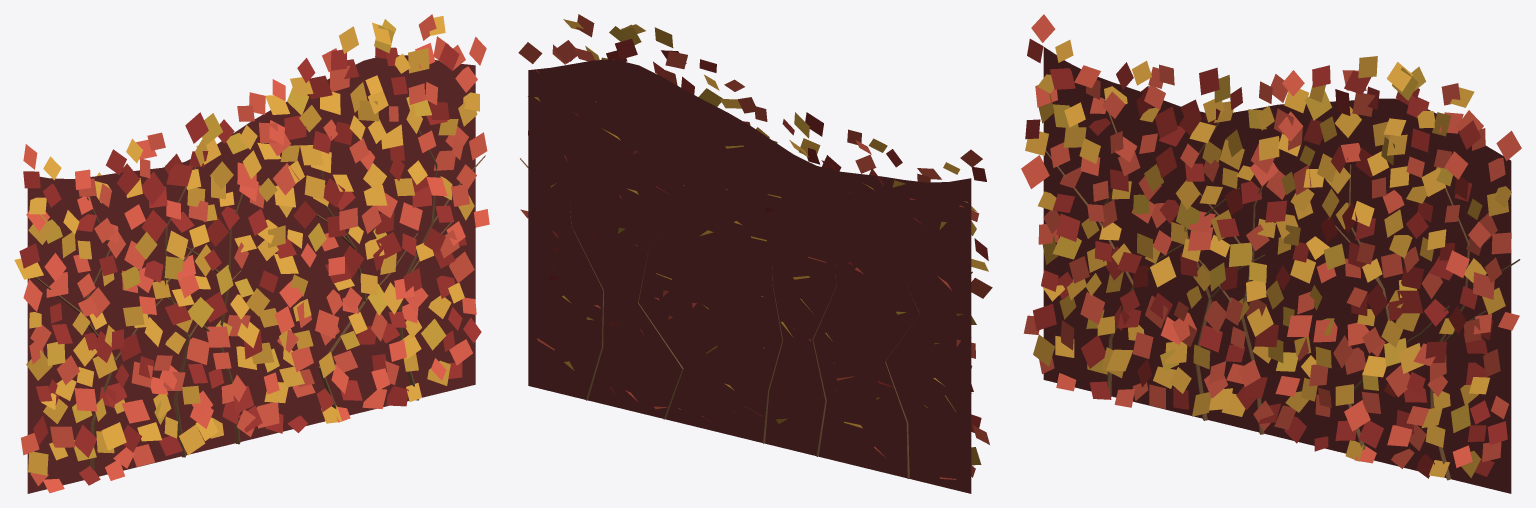
File: SC_Nat_Ivy_Wall_3m_Autumn.gltf
3 views of the same model, side by side, from view 1: azimuth 30°, elevation 25°; view 2: azimuth 150°, elevation 25°; view 3: azimuth 330°, elevation 25° (orthographic). The views are drawn at different scales.
Parts seen in each view (by area): view 1: SC_Nat_Ivy_Wall_3m_Autumn; view 2: SC_Nat_Ivy_Wall_3m_Autumn; view 3: SC_Nat_Ivy_Wall_3m_Autumn.
Boxes of the visible parts, <box> form: SC_Nat_Ivy_Wall_3m_Autumn: <box>14,14,489,493</box>; SC_Nat_Ivy_Wall_3m_Autumn: <box>518,14,992,493</box>; SC_Nat_Ivy_Wall_3m_Autumn: <box>1021,14,1521,493</box>.
Size of the model in its own units: 3.16 by 2.5 by 0.1736.
1 material, 1 textured.
